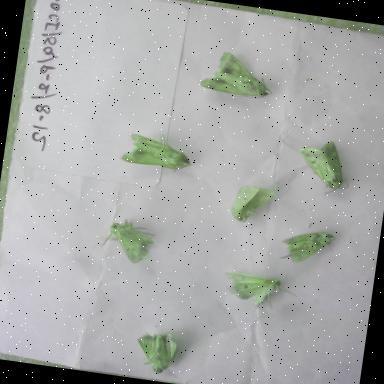abw: (192, 43, 284, 108), (214, 266, 306, 326), (286, 131, 362, 203), (112, 124, 202, 180), (95, 212, 168, 272), (119, 320, 190, 380), (270, 220, 342, 274), (222, 170, 284, 232)
